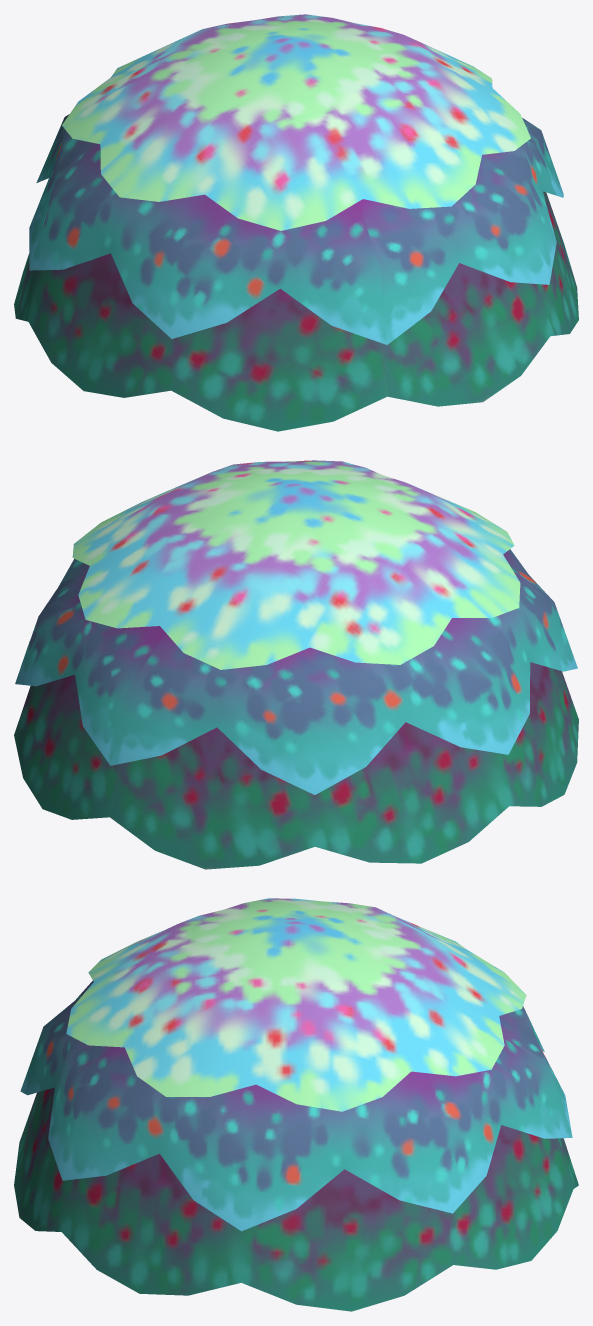
File: Bush1.fbx
3 renders of one model, top to bottom at view 1: azimuth 30°, elevation 25°; view 2: azimuth 150°, elevation 25°; view 3: azimuth 270°, elevation 25°, orthographic.
Visible parts, largest first — view 1: Bush1; view 2: Bush1; view 3: Bush1.
Boxes of the visible parts, x1,y1,x2,y2 form: Bush1: (14,14,578,431); Bush1: (14,460,578,869); Bush1: (14,898,578,1311).
Size of the model in its own units: 106 by 55.85 by 106.
